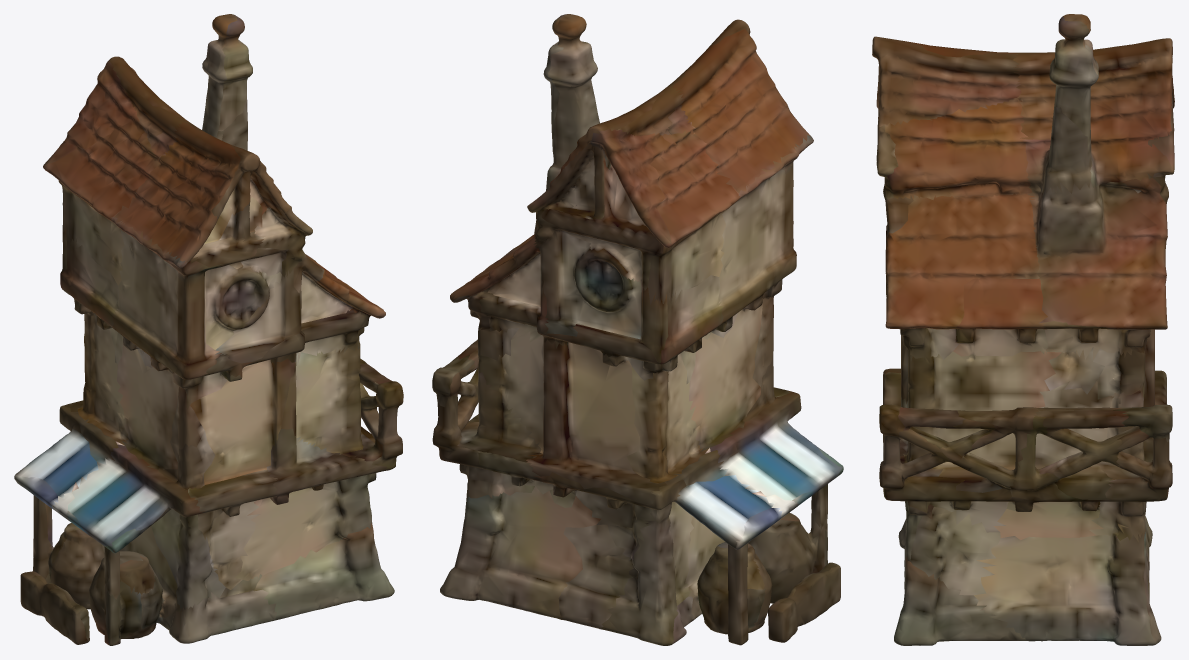
File: building 3.glb
The picture shows the model from 3 angles, left to right: view 1: azimuth 30°, elevation 25°; view 2: azimuth 150°, elevation 25°; view 3: azimuth 270°, elevation 25°; orthographic projection. The views are drawn at different scales.
Parts seen in each view (by area): view 1: Mesh_0; view 2: Mesh_0; view 3: Mesh_0.
Part boxes in pixels (x1,y1,x2,y2): Mesh_0: [14, 14, 403, 645]; Mesh_0: [432, 14, 843, 645]; Mesh_0: [872, 14, 1174, 645].
Bounding box in the file's own units: 0.3744 × 0.6561 × 0.3071.
Materials: 1 (1 with a texture image).
